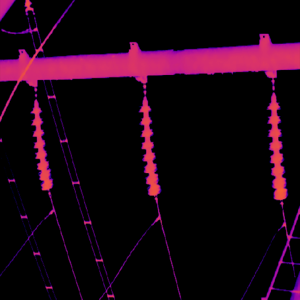insulator: (138, 93, 161, 198), (267, 89, 287, 201), (30, 98, 53, 191)
